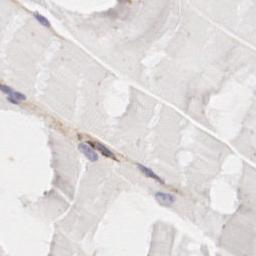nucleus: (135, 163, 166, 185), (76, 142, 98, 162), (154, 192, 175, 205), (34, 14, 48, 26), (100, 144, 113, 154), (6, 96, 18, 104), (15, 93, 27, 100), (1, 86, 11, 93)
positive_cell: (82, 134, 123, 162)
